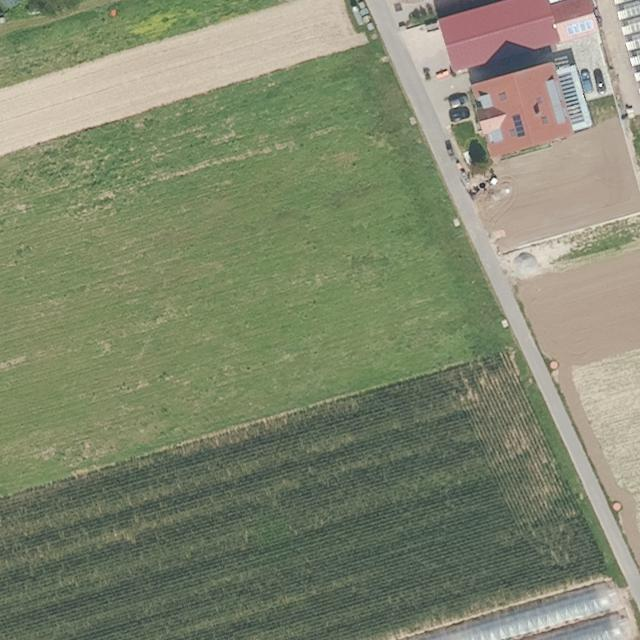PV: (566, 19, 594, 35), (511, 113, 526, 138)
